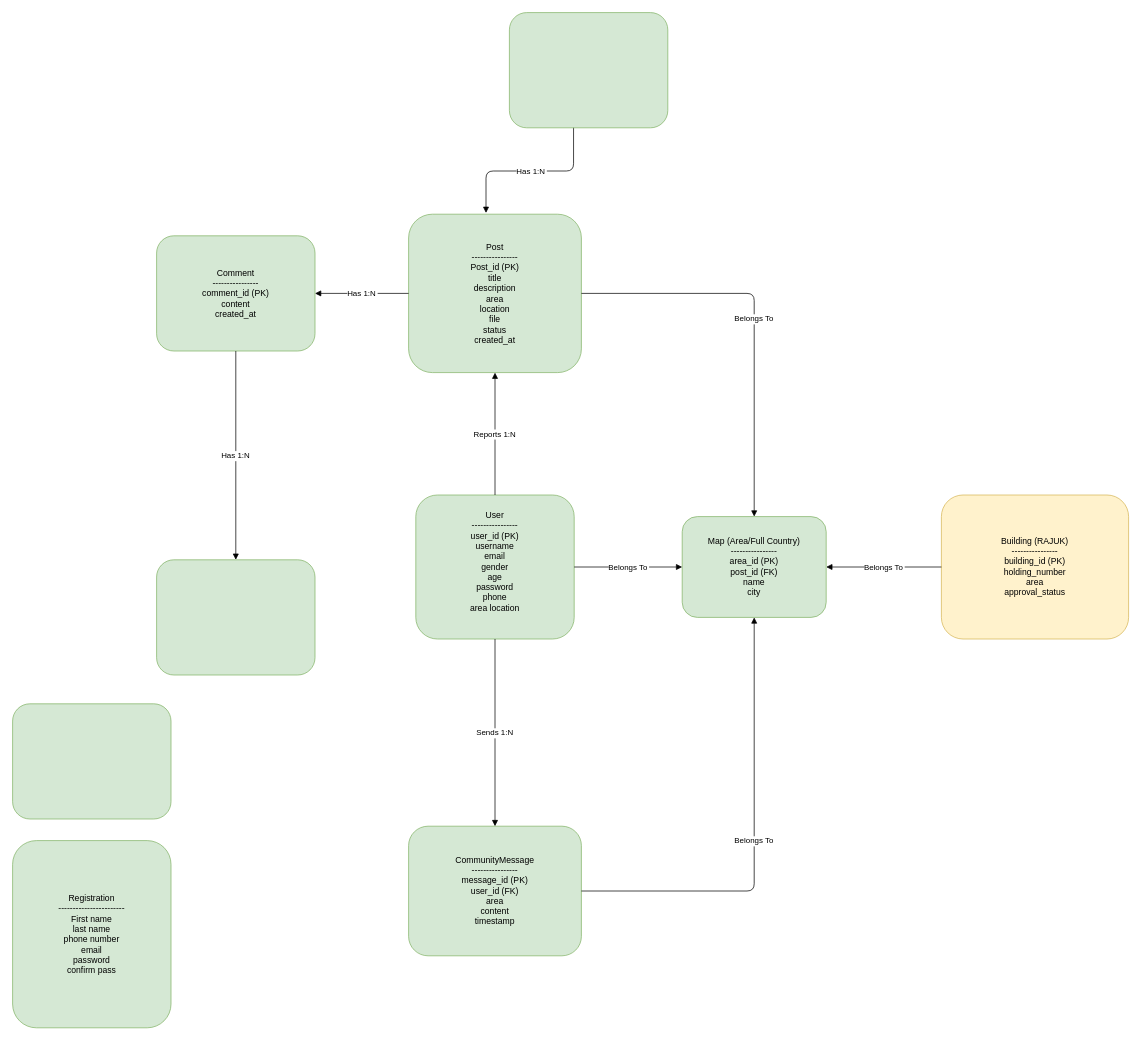
Some shapes in this 1141 by 1040 pixel diagram are drawn without their labels. The shapes that lost their labels are listed below. From the top down, each one's centre as x and y in pixels, then its label:
At [588,70]: "Voting system ---------------- Post_id (FK) Up vote down vote".
At [235,617]: "Reply ---------------- reply_id (PK) content created_at".
At [91,761]: "Login ---------------- email password".
